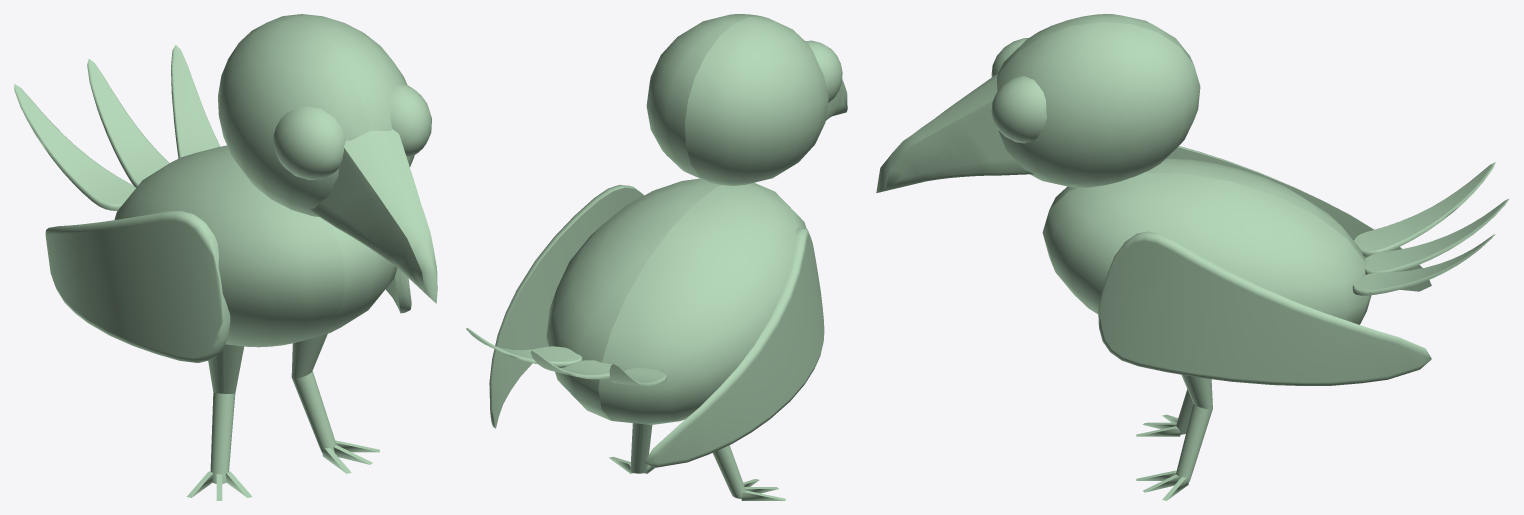
The model's file is NPC_Crow.fbx.
3 views of the same model, side by side, from view 1: azimuth 30°, elevation 25°; view 2: azimuth 150°, elevation 25°; view 3: azimuth 270°, elevation 25° (orthographic). The views are drawn at different scales.
Parts seen in each view (by area): view 1: NPC_Crow; view 2: NPC_Crow; view 3: NPC_Crow.
Part boxes in pixels (bbox=[...]): NPC_Crow: bbox=[14, 14, 437, 500]; NPC_Crow: bbox=[466, 14, 847, 500]; NPC_Crow: bbox=[876, 14, 1509, 500].
Bounding box in the file's own units: 20.42 × 34.53 × 45.7.
